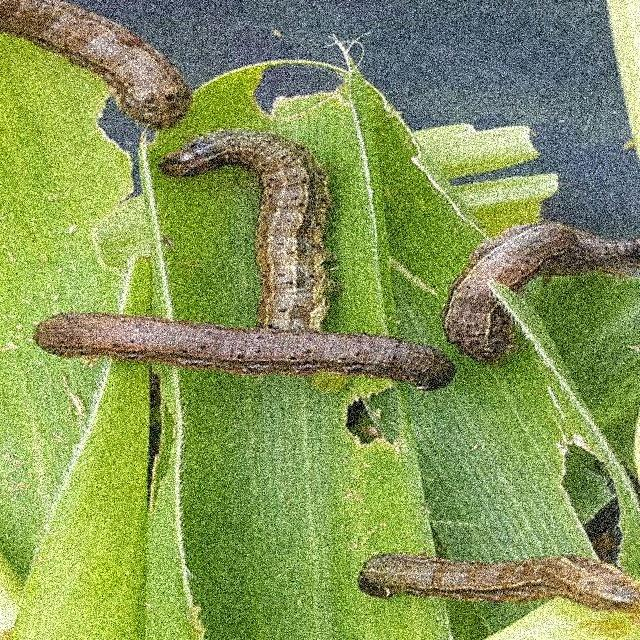worm: (34, 127, 457, 394), (158, 127, 335, 333), (33, 311, 457, 392), (442, 220, 640, 366), (1, 1, 193, 132), (357, 552, 640, 614)
